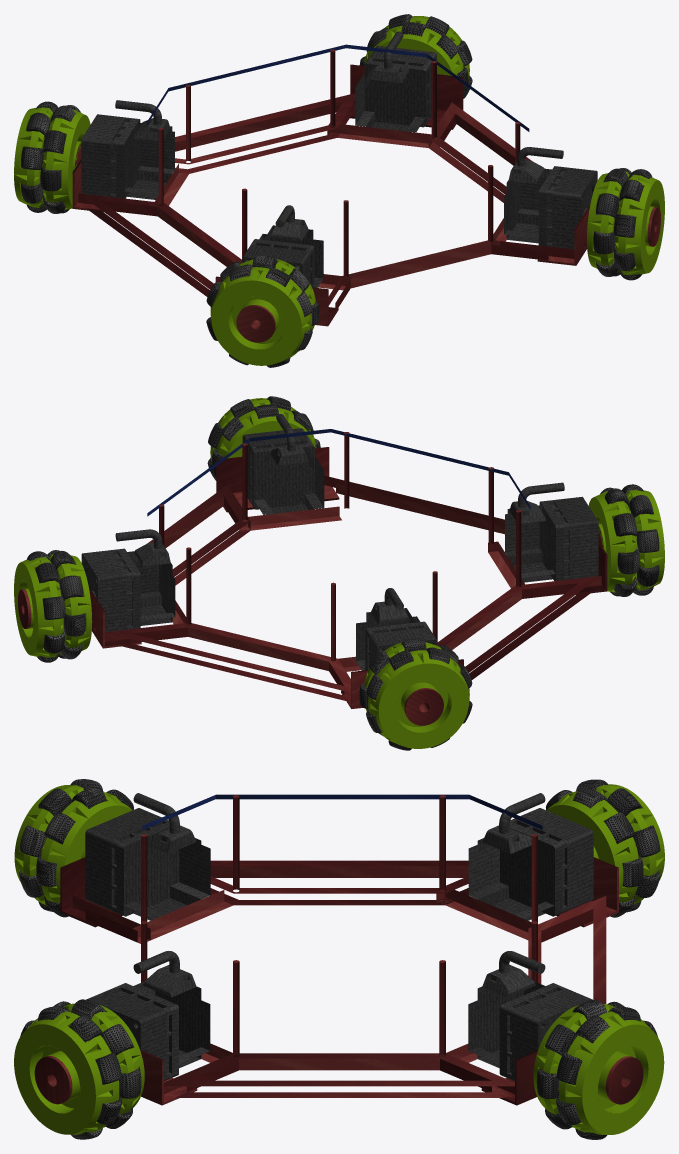
File: TeamBRobot.obj
The picture shows the model from 3 angles, top to bottom: view 1: azimuth 30°, elevation 25°; view 2: azimuth 150°, elevation 25°; view 3: azimuth 270°, elevation 25°; orthographic projection. The views are drawn at different scales.
Visible parts, largest first — view 1: Motors.001_Part10_3.001, Frame.001_Part21Brace_3.001, OmniWheelFrame_4.002_TheRealOmniWheel_3.000, vexta30k.housing.001_vexta30k.housing_2.001, loller_4.001_loller_9.001, loller_3.001_loller_57.001, loller_1.001_loller_37.001, loller_2.001_loller_56.001, Top_plate.001_Part20EquipmentPlate.001, OmniWheelFrame_1.002_TheRealOmniWheel_2.000; view 2: Motors.001_Part10_3.001, Frame.001_Part21Brace_3.001, OmniWheelFrame_4.002_TheRealOmniWheel_3.000, vexta30k.housing.001_vexta30k.housing_2.001, loller_1.001_loller_37.001, loller_2.001_loller_56.001, loller_3.001_loller_57.001, loller_4.001_loller_9.001, Top_plate.001_Part20EquipmentPlate.001, OmniWheelFrame_3.003_TheRealOmniWheel.001; view 3: Motors.001_Part10_3.001, Frame.001_Part21Brace_3.001, OmniWheelFrame_4.002_TheRealOmniWheel_3.000, vexta30k.housing.001_vexta30k.housing_2.001, loller_2.001_loller_56.001, loller_4.001_loller_9.001, loller_1.001_loller_37.001, loller_3.001_loller_57.001, Top_plate.001_Part20EquipmentPlate.001, OmniWheelFrame_4.003_TheRealOmniWheel_3.001, OmniWheelFrame_2.003_TheRealOmniWheel_1.001.
Boxes of the visible parts, bbox=[...] form: Motors.001_Part10_3.001: bbox=[81, 31, 597, 287]; Frame.001_Part21Brace_3.001: bbox=[78, 49, 574, 311]; OmniWheelFrame_4.002_TheRealOmniWheel_3.000: bbox=[14, 16, 664, 365]; vexta30k.housing.001_vexta30k.housing_2.001: bbox=[72, 64, 590, 326]; loller_4.001_loller_9.001: bbox=[593, 168, 652, 280]; loller_3.001_loller_57.001: bbox=[21, 101, 80, 213]; loller_1.001_loller_37.001: bbox=[206, 256, 319, 367]; loller_2.001_loller_56.001: bbox=[359, 14, 472, 98]; Top_plate.001_Part20EquipmentPlate.001: bbox=[146, 44, 529, 131]; OmniWheelFrame_1.002_TheRealOmniWheel_2.000: bbox=[236, 305, 275, 342]; Motors.001_Part10_3.001: bbox=[81, 414, 598, 670]; Frame.001_Part21Brace_3.001: bbox=[105, 432, 601, 702]; OmniWheelFrame_4.002_TheRealOmniWheel_3.000: bbox=[14, 398, 664, 748]; vexta30k.housing.001_vexta30k.housing_2.001: bbox=[88, 447, 607, 708]; loller_1.001_loller_37.001: bbox=[600, 484, 659, 596]; loller_2.001_loller_56.001: bbox=[27, 550, 85, 662]; loller_3.001_loller_57.001: bbox=[359, 638, 472, 750]; loller_4.001_loller_9.001: bbox=[207, 396, 320, 480]; Top_plate.001_Part20EquipmentPlate.001: bbox=[147, 429, 530, 516]; OmniWheelFrame_3.003_TheRealOmniWheel.001: bbox=[404, 688, 443, 725]; Motors.001_Part10_3.001: bbox=[85, 793, 593, 1080]; Frame.001_Part21Brace_3.001: bbox=[72, 795, 606, 1097]; OmniWheelFrame_4.002_TheRealOmniWheel_3.000: bbox=[14, 784, 664, 1134]; vexta30k.housing.001_vexta30k.housing_2.001: bbox=[60, 857, 618, 1105]; loller_2.001_loller_56.001: bbox=[536, 999, 657, 1139]; loller_4.001_loller_9.001: bbox=[20, 999, 141, 1139]; loller_1.001_loller_37.001: bbox=[19, 779, 133, 917]; loller_3.001_loller_57.001: bbox=[546, 779, 660, 917]; Top_plate.001_Part20EquipmentPlate.001: bbox=[142, 794, 542, 829]; OmniWheelFrame_4.003_TheRealOmniWheel_3.001: bbox=[34, 1056, 72, 1104]; OmniWheelFrame_2.003_TheRealOmniWheel_1.001: bbox=[605, 1056, 643, 1104].
Size of the model in its own units: 0.6492 by 0.1581 by 0.65.
Materials: 7 (7 with a texture image).
